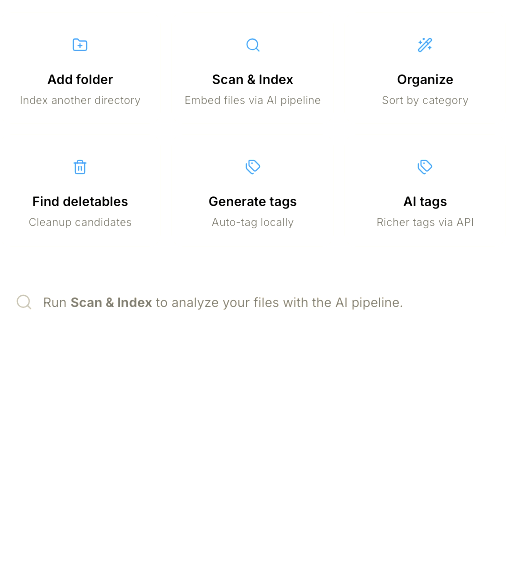
it: ScanView enhanced progress & debug panel › shows job_id and folders in the debug panel
The width and height of the screenshot is (506, 571).
Click the button "Scan & Index Embed files via AI pipeline" at (253, 68), box [172, 12, 334, 124]
Wait 1100 ms
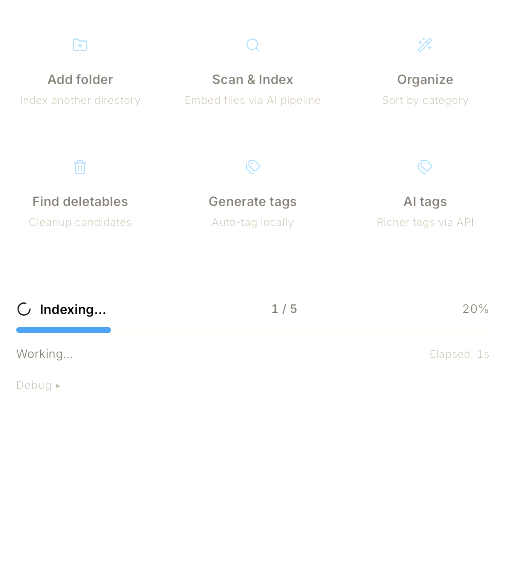
Note: Expand debug panel
Click the text "Debug ▸" at (39, 385), box [16, 378, 61, 392]
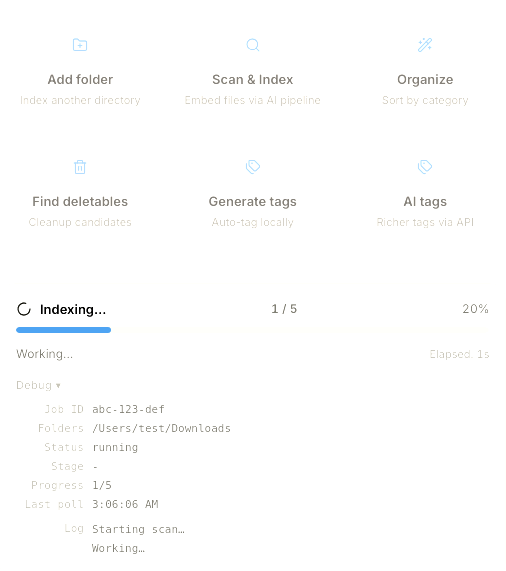
Now the text "abc-123-def" is shown, box [92, 401, 165, 418]
Now the text "/Users/test/Downloads" is shown, box [92, 420, 231, 437]
